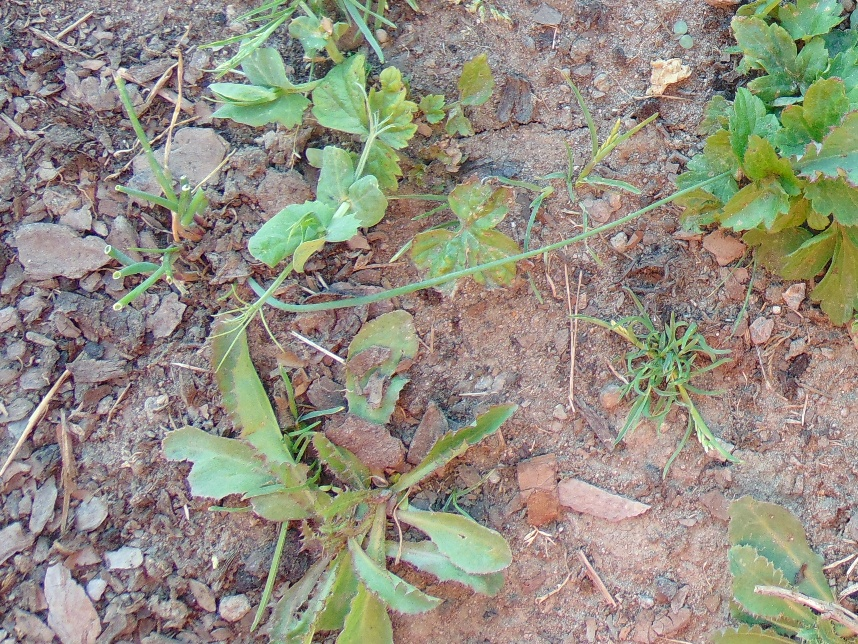crop: (242, 138, 392, 285), (200, 42, 339, 138), (224, 277, 284, 333), (343, 89, 403, 145)
weed: (266, 309, 518, 644), (677, 1, 858, 322), (170, 307, 306, 520), (724, 492, 858, 644), (362, 53, 497, 177), (413, 167, 520, 296), (313, 47, 427, 148), (127, 171, 210, 293), (616, 311, 709, 406), (222, 1, 400, 48), (530, 136, 618, 222), (674, 400, 734, 467), (670, 16, 692, 48)
